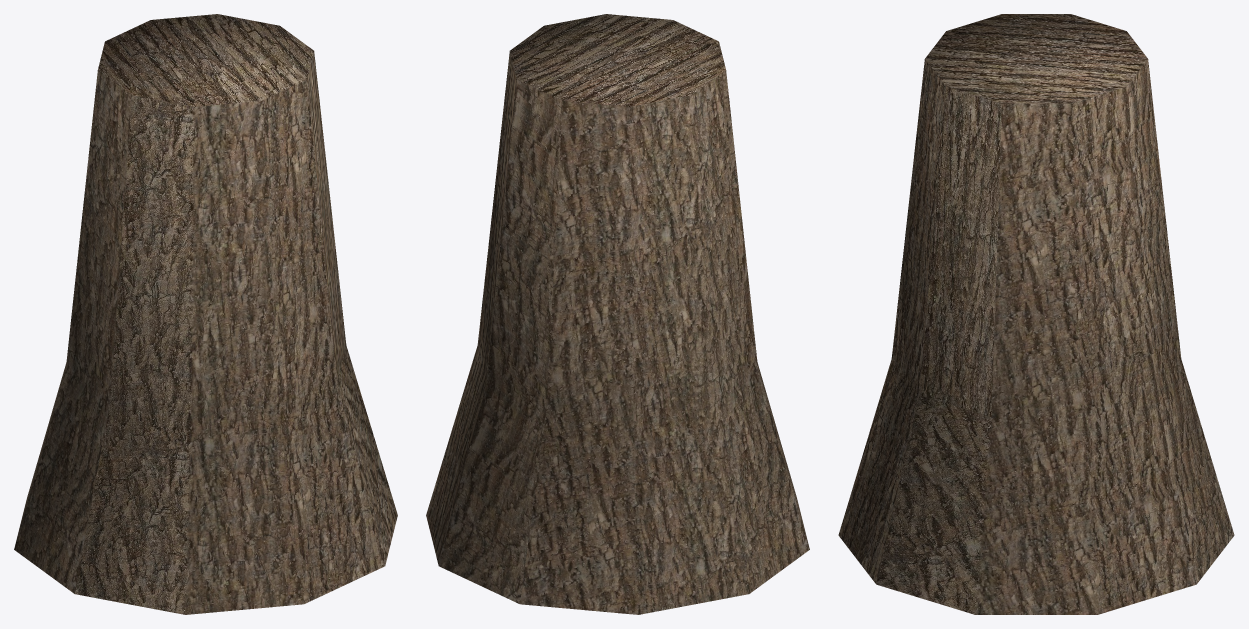
File: stump.obj
3 views of the same model, side by side, from view 1: azimuth 30°, elevation 25°; view 2: azimuth 150°, elevation 25°; view 3: azimuth 270°, elevation 25° (orthographic).
Visible parts, largest first — view 1: Cylinder.042_Cylinder.053; view 2: Cylinder.042_Cylinder.053; view 3: Cylinder.042_Cylinder.053.
Boxes of the visible parts, x1=… form: Cylinder.042_Cylinder.053: x1=14, y1=14, x2=397, y2=614; Cylinder.042_Cylinder.053: x1=426, y1=14, x2=809, y2=614; Cylinder.042_Cylinder.053: x1=838, y1=14, x2=1234, y2=614.
Size of the model in its own units: 0.893 by 1.25 by 0.9389.
